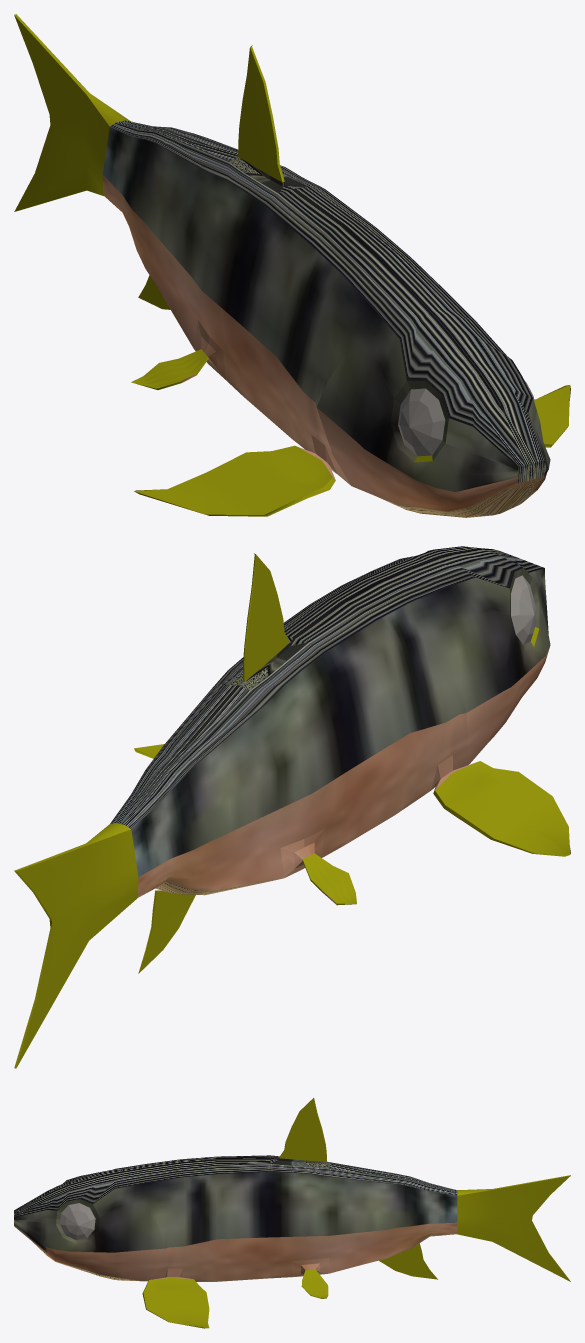
Rendered from kawamutu_enemy.fbx.
The picture shows the model from 3 angles, top to bottom: view 1: azimuth 30°, elevation 25°; view 2: azimuth 150°, elevation 25°; view 3: azimuth 270°, elevation 25°; orthographic projection. The views are drawn at different scales.
Parts seen in each view (by area): view 1: kawamutu_kurumeusu_mimurapCube1; view 2: kawamutu_kurumeusu_mimurapCube1; view 3: kawamutu_kurumeusu_mimurapCube1.
Boxes of the visible parts, left/top/right/bottom form: kawamutu_kurumeusu_mimurapCube1: left=14, top=14, right=570, bottom=517; kawamutu_kurumeusu_mimurapCube1: left=14, top=546, right=570, bottom=1068; kawamutu_kurumeusu_mimurapCube1: left=14, top=1098, right=570, bottom=1328.
Size of the model in its own units: 9.11 by 6.8 by 18.66.
